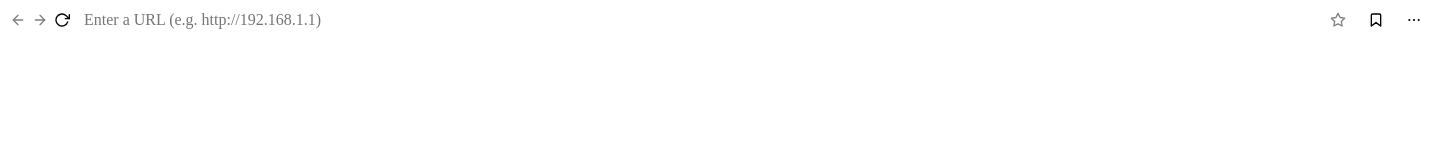
Test case: WebBrowserPane › shows the empty state in the dropdown when no bookmarks are saved
This screenshot has width=1437, height=160.
Step 1. Click the button named "Show bookmarks" → x=1376, y=20, box [1360,6,1392,34]
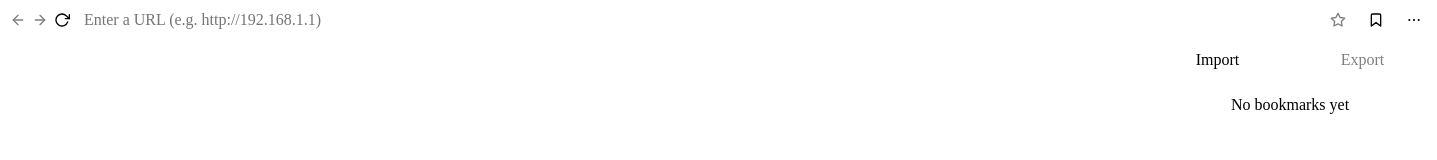
expect the text "No bookmarks yet" is shown: met, box [1231,96,1349,113]
